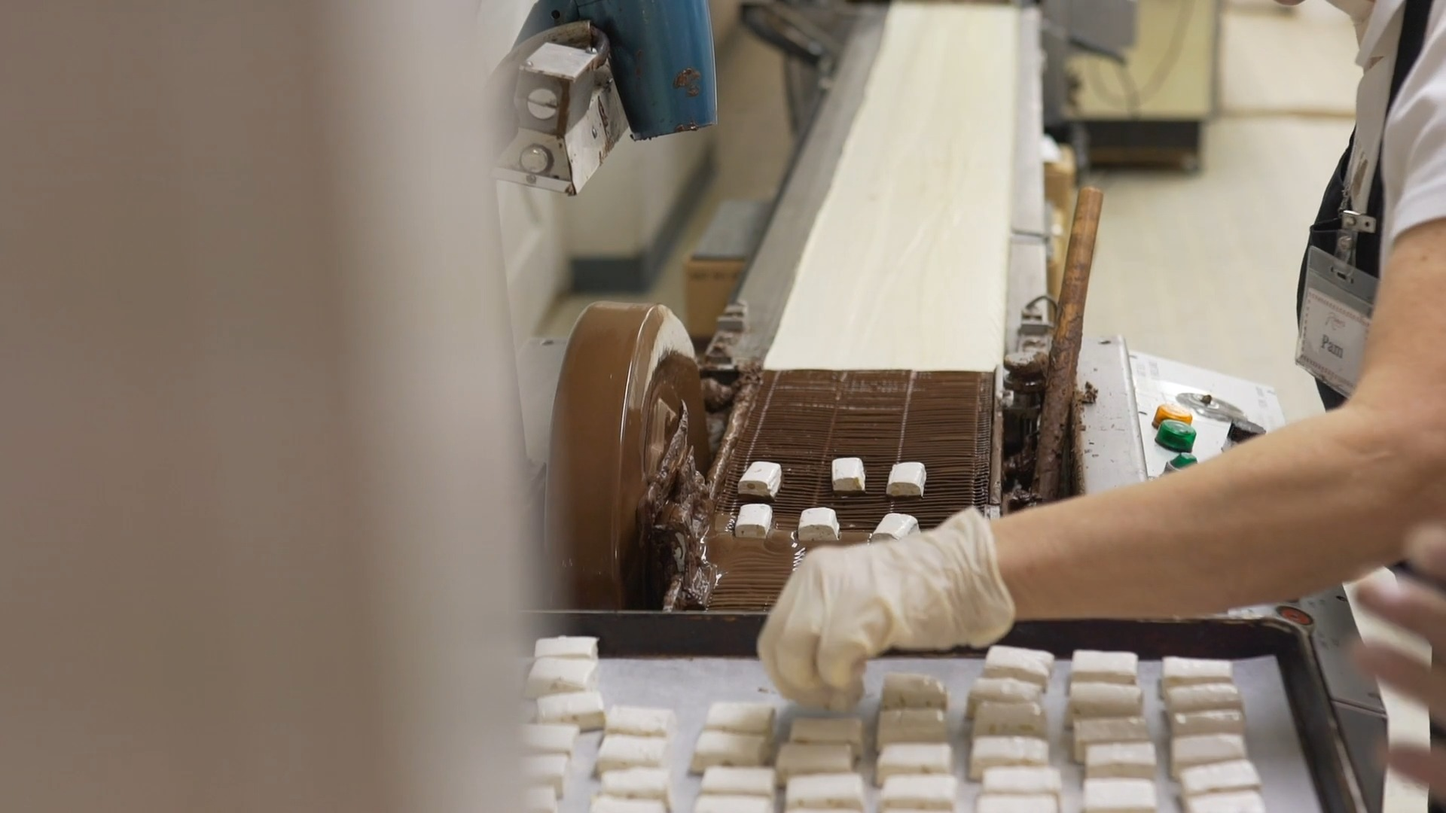gloves: (725, 476, 1068, 715)
